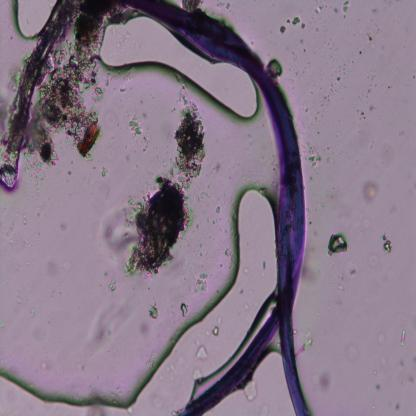Air bubble: (0, 190, 276, 414), (98, 15, 261, 121), (11, 0, 58, 44)
Background material: (104, 174, 195, 278), (31, 61, 102, 160), (171, 88, 206, 192), (328, 257, 357, 295), (316, 70, 340, 111), (127, 121, 150, 149), (351, 97, 374, 122), (307, 146, 332, 168), (392, 362, 414, 386), (194, 238, 215, 262), (327, 234, 349, 256), (315, 366, 332, 394), (279, 20, 309, 34), (298, 333, 316, 354), (341, 338, 357, 361), (362, 182, 378, 205), (266, 58, 282, 79), (194, 272, 209, 293), (245, 382, 260, 402), (45, 260, 60, 280), (381, 232, 393, 256), (372, 332, 387, 350), (106, 275, 119, 294), (196, 345, 210, 361), (93, 82, 104, 102), (148, 305, 160, 321), (209, 202, 221, 218), (180, 300, 190, 318), (399, 330, 408, 348), (369, 382, 385, 392), (193, 370, 203, 385), (342, 0, 350, 14), (366, 29, 374, 42), (212, 327, 220, 336)
Cellulose filter fibre: (0, 1, 80, 192)
Cotton: (129, 5, 312, 415)
